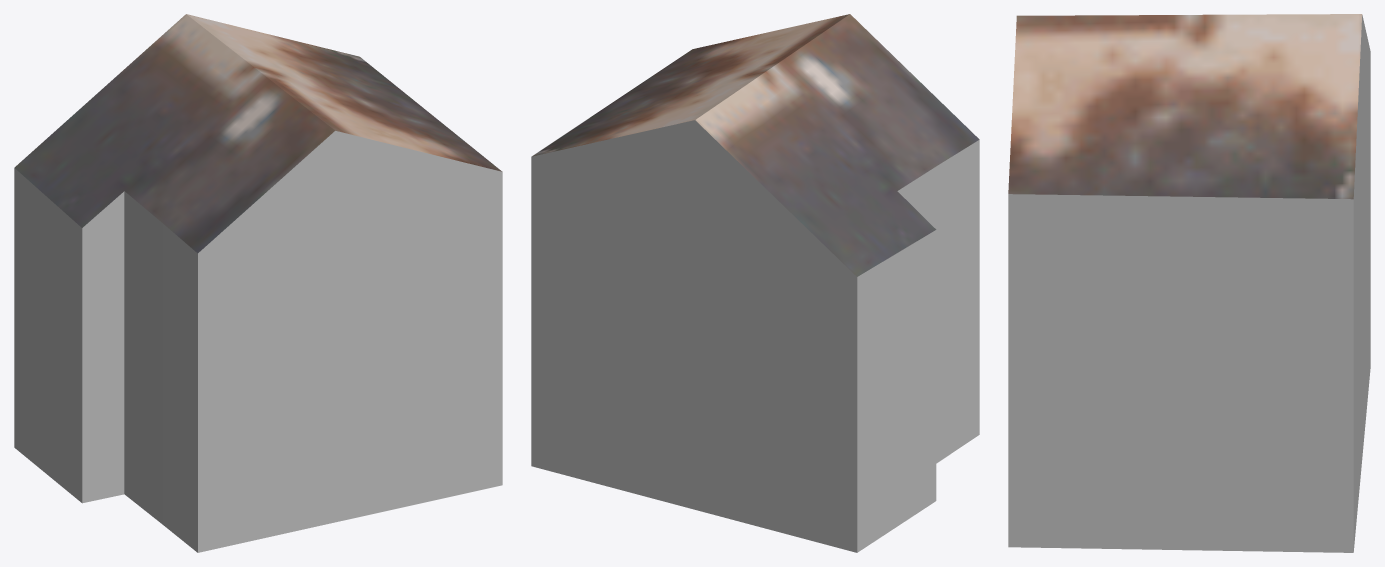
File: DEBW_0010007Tx3p.gltf
The picture shows the model from 3 angles, left to right: view 1: azimuth 30°, elevation 25°; view 2: azimuth 150°, elevation 25°; view 3: azimuth 270°, elevation 25°; orthographic projection. The views are drawn at different scales.
Visible parts, largest first — view 1: Z_UP; view 2: Z_UP; view 3: Z_UP.
Part boxes in pixels (<box>): Z_UP: <box>14,14,502,552</box>; Z_UP: <box>531,14,979,552</box>; Z_UP: <box>1008,14,1370,552</box>.
Size of the model in its own units: 11.61 by 12.74 by 9.39.
Materials: 2 (1 with a texture image).
